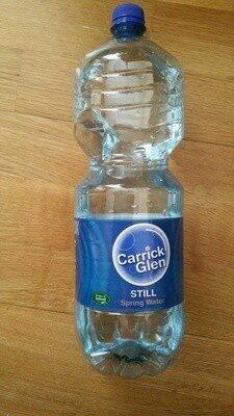Plastic Bottle: (74, 4, 184, 378)
